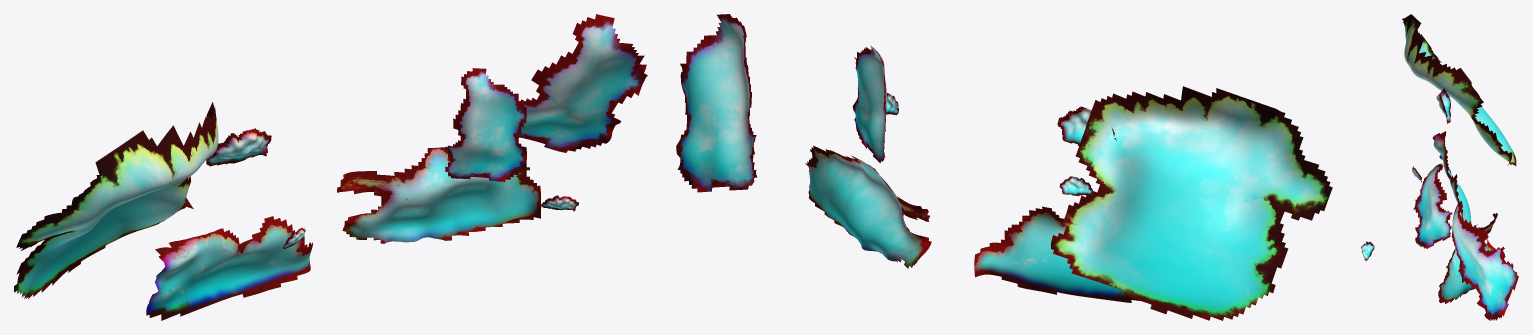
File: clouds.glb
3 renders of one model, left to right at view 1: azimuth 30°, elevation 25°; view 2: azimuth 150°, elevation 25°; view 3: azimuth 270°, elevation 25°, orthographic. The views are drawn at different scales.
Visible parts, largest first — view 1: Cloud005, Cloud003, Cloud004 (1), Cloud002, Cloud004, Cloud001; view 2: Cloud005, Cloud004 (1), Cloud003, Cloud002, Cloud004, Cloud001, Cloud001 (1); view 3: Cloud004 (1), Cloud005, Cloud004, Cloud003, Cloud002, Cloud001, Cloud001 (2).
Part boxes in pixels (bbox=[...]): Cloud005: bbox=[14, 102, 218, 298]; Cloud003: bbox=[337, 147, 541, 243]; Cloud004 (1): bbox=[518, 14, 647, 152]; Cloud002: bbox=[146, 216, 312, 320]; Cloud004: bbox=[445, 68, 526, 181]; Cloud001: bbox=[206, 128, 271, 166]; Cloud005: bbox=[1051, 86, 1332, 320]; Cloud004 (1): bbox=[676, 14, 757, 192]; Cloud003: bbox=[805, 145, 931, 268]; Cloud002: bbox=[974, 206, 1139, 302]; Cloud004: bbox=[852, 45, 886, 163]; Cloud001: bbox=[1057, 106, 1116, 145]; Cloud001 (1): bbox=[1059, 176, 1092, 196]; Cloud004 (1): bbox=[1451, 201, 1518, 320]; Cloud005: bbox=[1402, 14, 1516, 165]; Cloud004: bbox=[1413, 163, 1452, 248]; Cloud003: bbox=[1438, 213, 1497, 303]; Cloud002: bbox=[1432, 131, 1471, 222]; Cloud001: bbox=[1436, 88, 1450, 123]; Cloud001 (2): bbox=[1361, 241, 1374, 260].
Bounding box in the file's own units: 458 × 150 × 137.
Materials: 5 (5 with a texture image).
